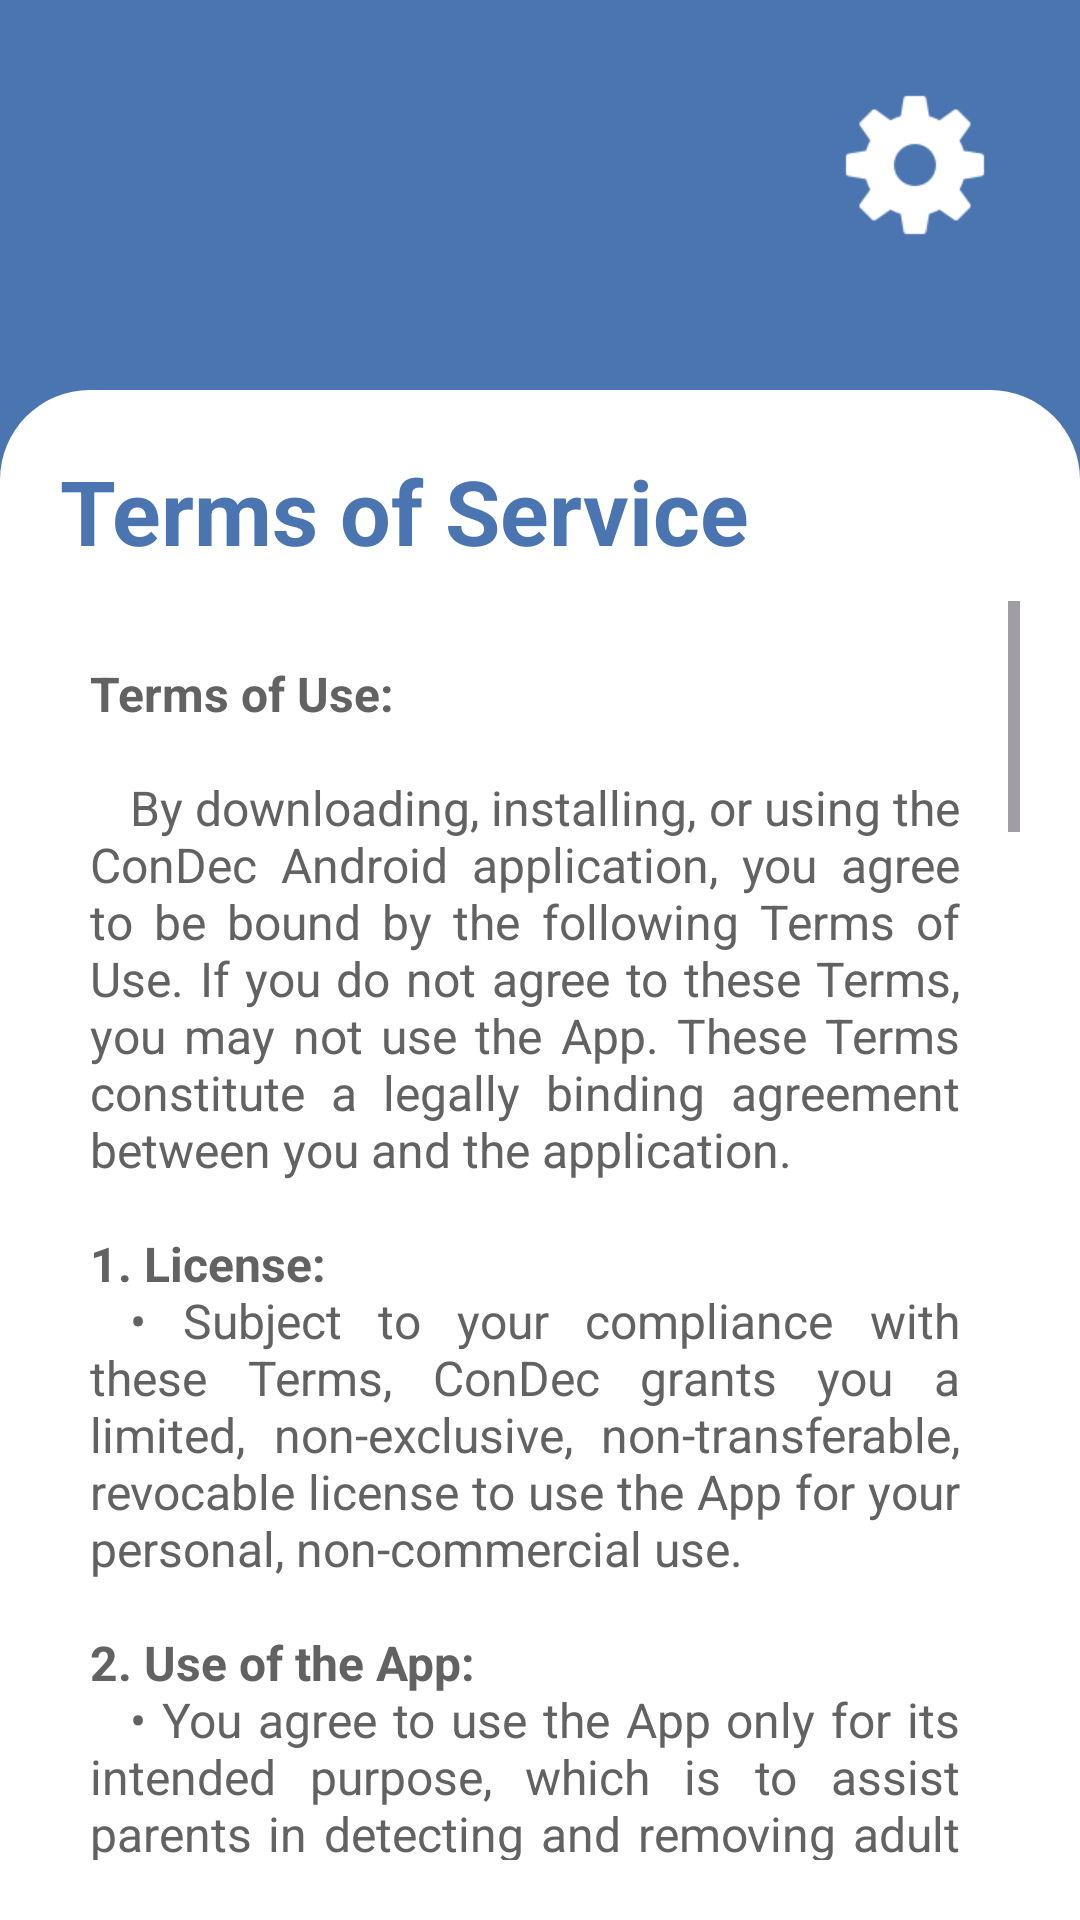

Locate icon controls on the screen. Image size 1080*1920, boxes as (x1, y1, x2, y2).
settings: (845, 95, 985, 235)
